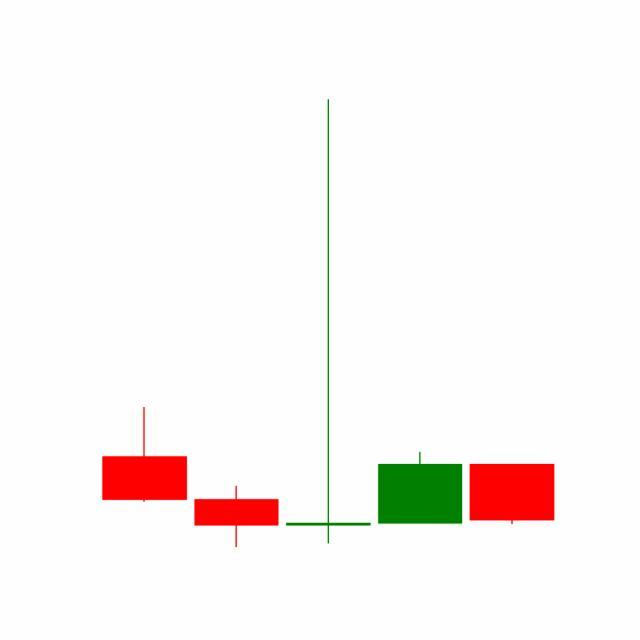Marubozu: (466, 464, 559, 526)
